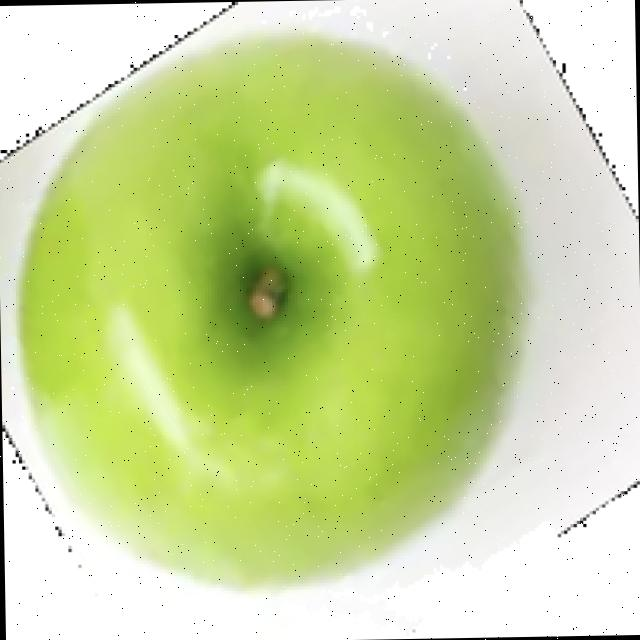apple: (8, 2, 540, 596)
